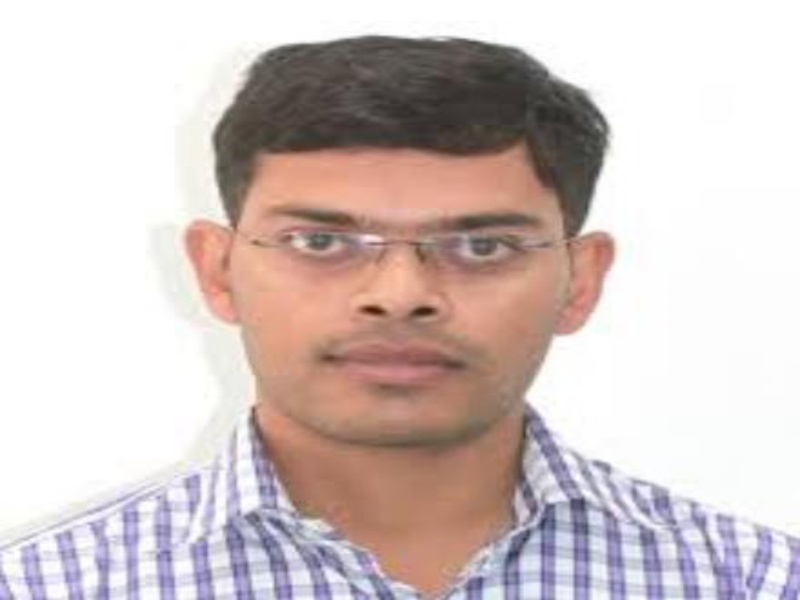TsisyArotava: (173, 27, 650, 544)
